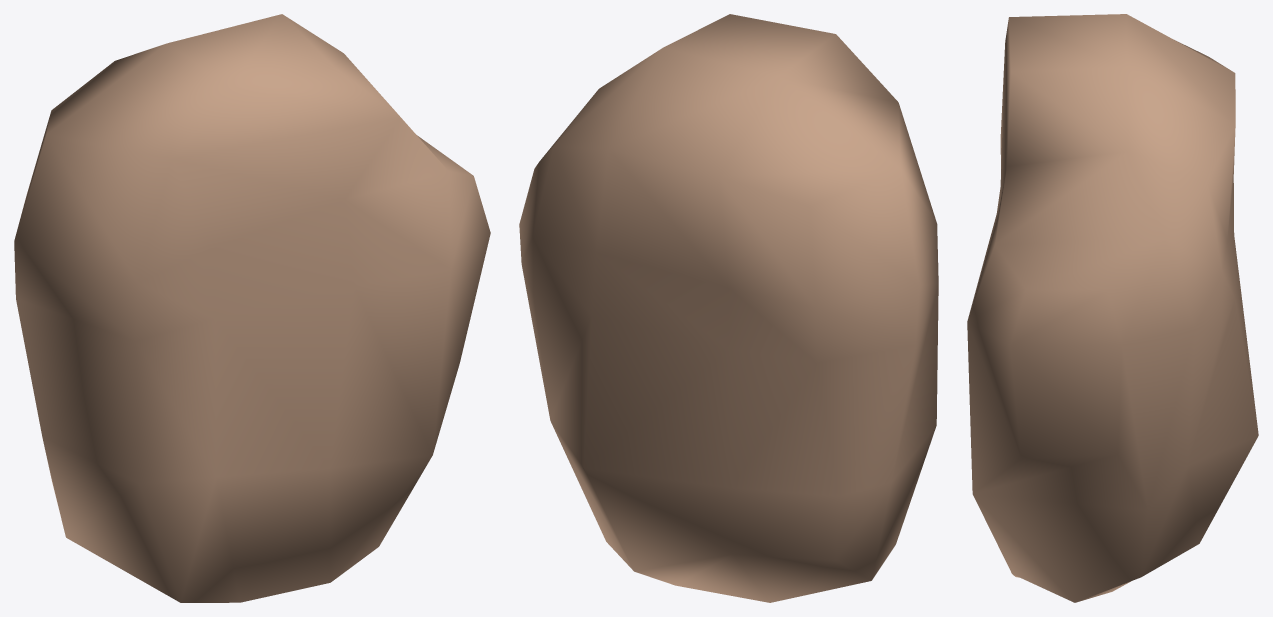
File: Boulder_07_A.fbx
3 views of the same model, side by side, from view 1: azimuth 30°, elevation 25°; view 2: azimuth 150°, elevation 25°; view 3: azimuth 270°, elevation 25° (orthographic). The views are drawn at different scales.
Parts seen in each view (by area): view 1: Boulder_07_A; view 2: Boulder_07_A; view 3: Boulder_07_A.
Part boxes in pixels (<box>): Boulder_07_A: <box>14,14,490,602</box>; Boulder_07_A: <box>519,14,938,602</box>; Boulder_07_A: <box>967,14,1258,602</box>.
Bounding box in the file's own units: 278 × 349 × 175.
